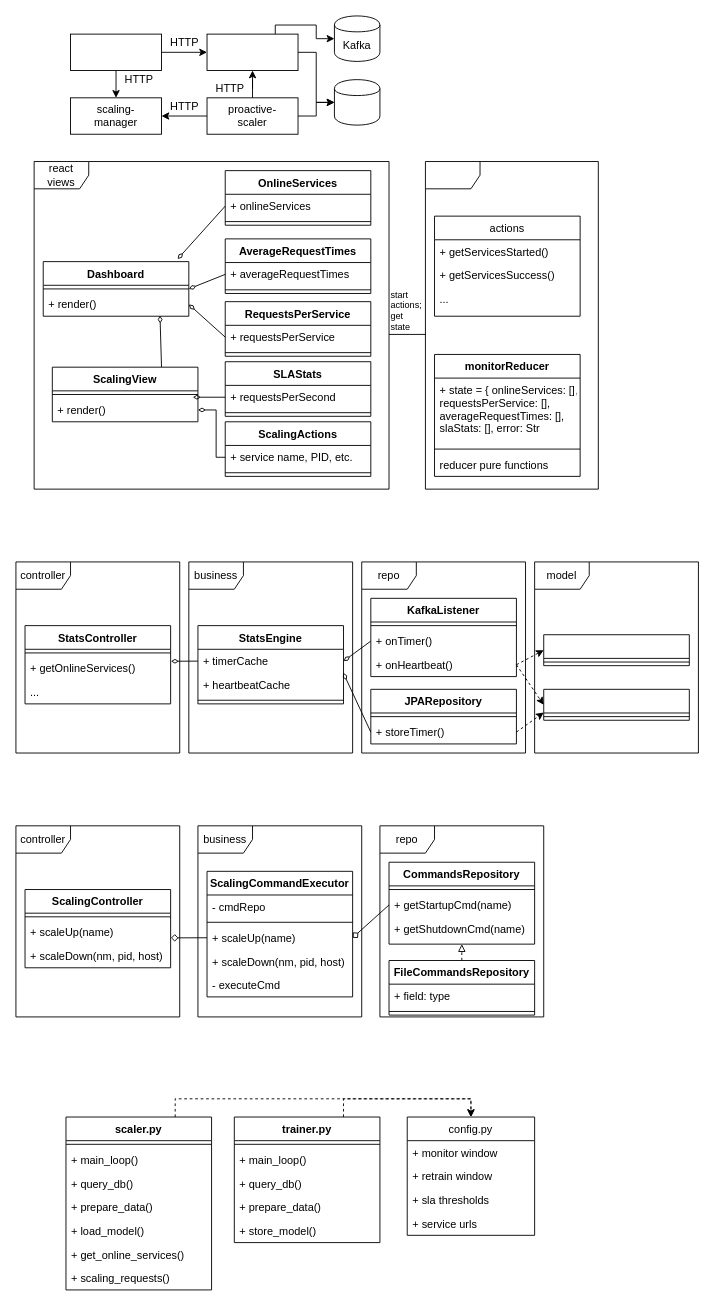
The diagram is 714 pixels wide and 1309 high, and some of its shapes have lost their labels. The centre of each missing label's shape, as x and y in pixels:
DB: pixel 357 102
Heartbeat: pixel 616 650
monitor- dashboard: pixel 116 52
redux-state: pixel 511 325
stats: pixel 252 52
Timer: pixel 616 704
